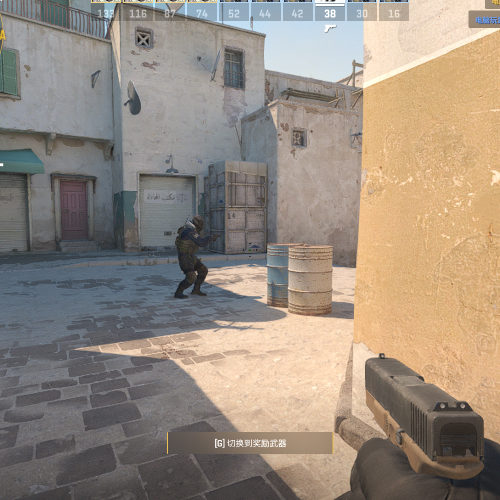ct_body: (175, 214, 208, 299)
ct_head: (193, 215, 204, 230)
